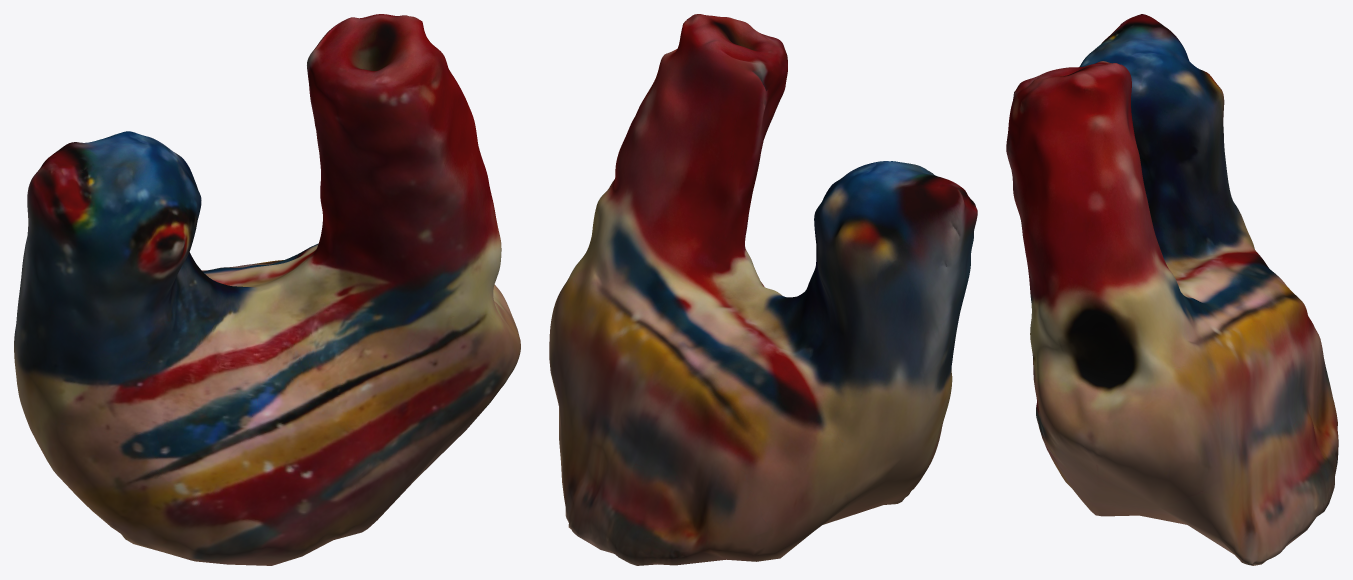
The picture shows the model from 3 angles, left to right: view 1: azimuth 30°, elevation 25°; view 2: azimuth 150°, elevation 25°; view 3: azimuth 270°, elevation 25°; orthographic projection. The views are drawn at different scales.
Bounding box in the file's own units: 0.5577 × 0.6049 × 0.385.
1 material, 1 textured.
